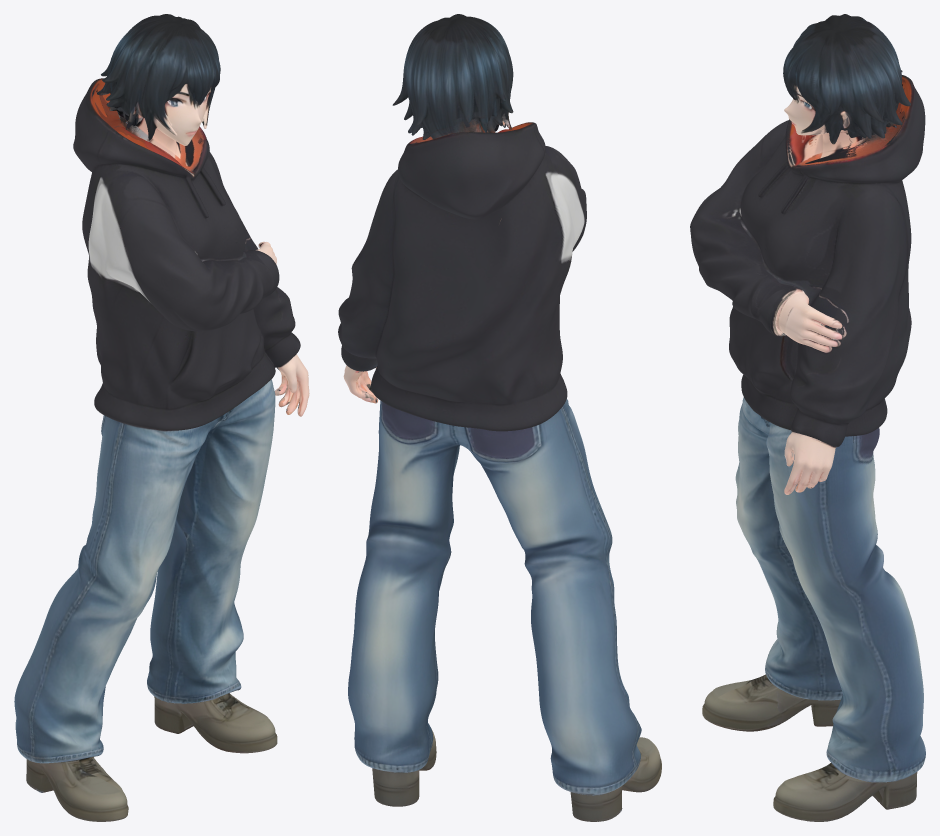
File: anime_male_character.glb
3 renders of one model, left to right at view 1: azimuth 30°, elevation 25°; view 2: azimuth 150°, elevation 25°; view 3: azimuth 270°, elevation 25°, orthographic. The views are drawn at different scales.
Visible parts, largest first — view 1: Object_4, Object_5, Object_6; view 2: Object_5, Object_4, Object_6; view 3: Object_4, Object_5, Object_6.
Part boxes in pixels (bbox=[...]): Object_4: bbox=[14, 14, 309, 821]; Object_5: bbox=[15, 14, 307, 792]; Object_6: bbox=[15, 18, 282, 787]; Object_5: bbox=[338, 14, 640, 821]; Object_4: bbox=[341, 15, 661, 810]; Object_6: bbox=[338, 17, 631, 821]; Object_4: bbox=[690, 18, 925, 821]; Object_5: bbox=[786, 14, 925, 821]; Object_6: bbox=[818, 14, 898, 820].
Size of the model in its own units: 0.7522 by 1.9 by 0.533.
Materials: 1 (1 with a texture image).
